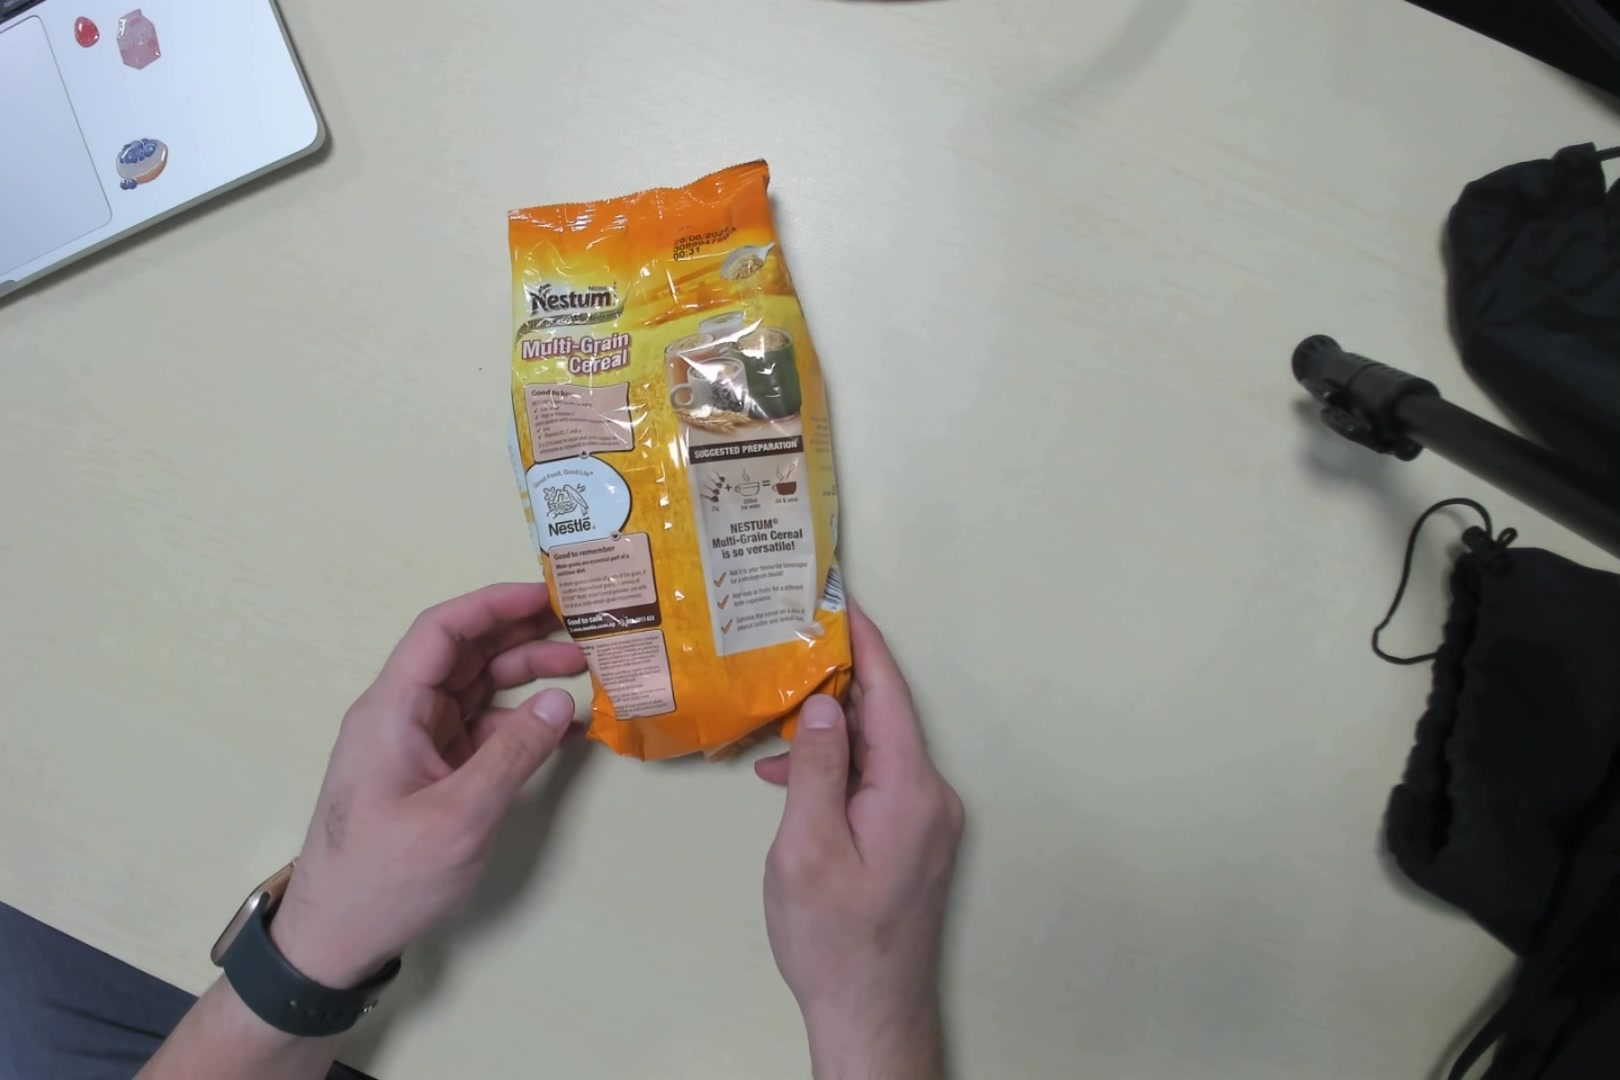RolledOatsInstantOatmeal_200-299g_NonHalal_Healthy: (507, 202, 849, 749)
